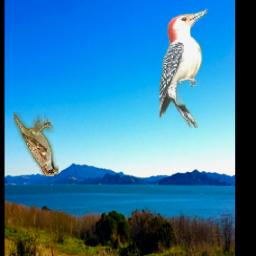Sparrow: (14, 113, 59, 177)
Woodpecker: (159, 8, 210, 128)
